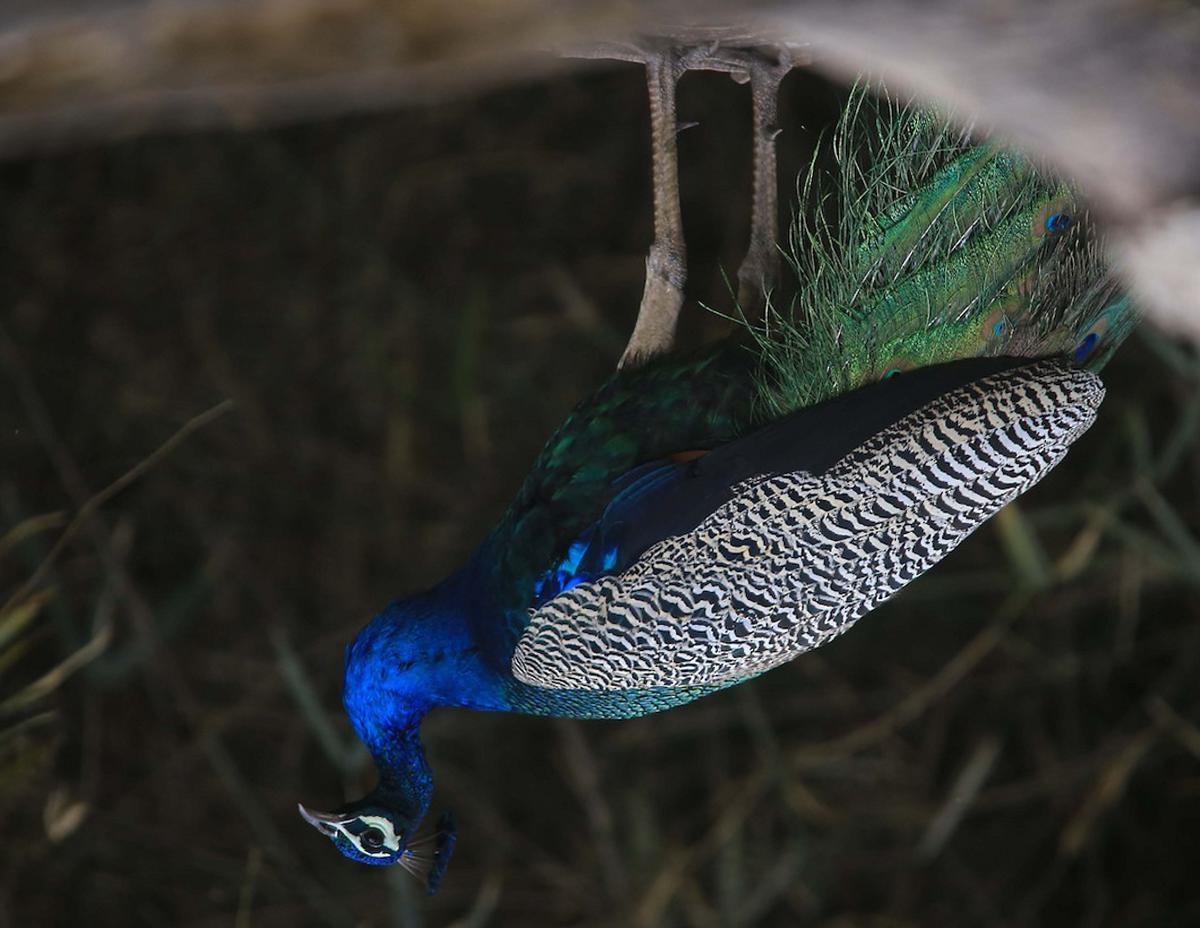peacock: (323, 132, 1193, 868)
